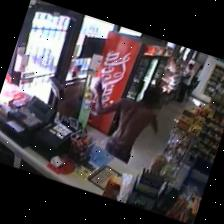person: (95, 81, 158, 163), (177, 63, 193, 102)
